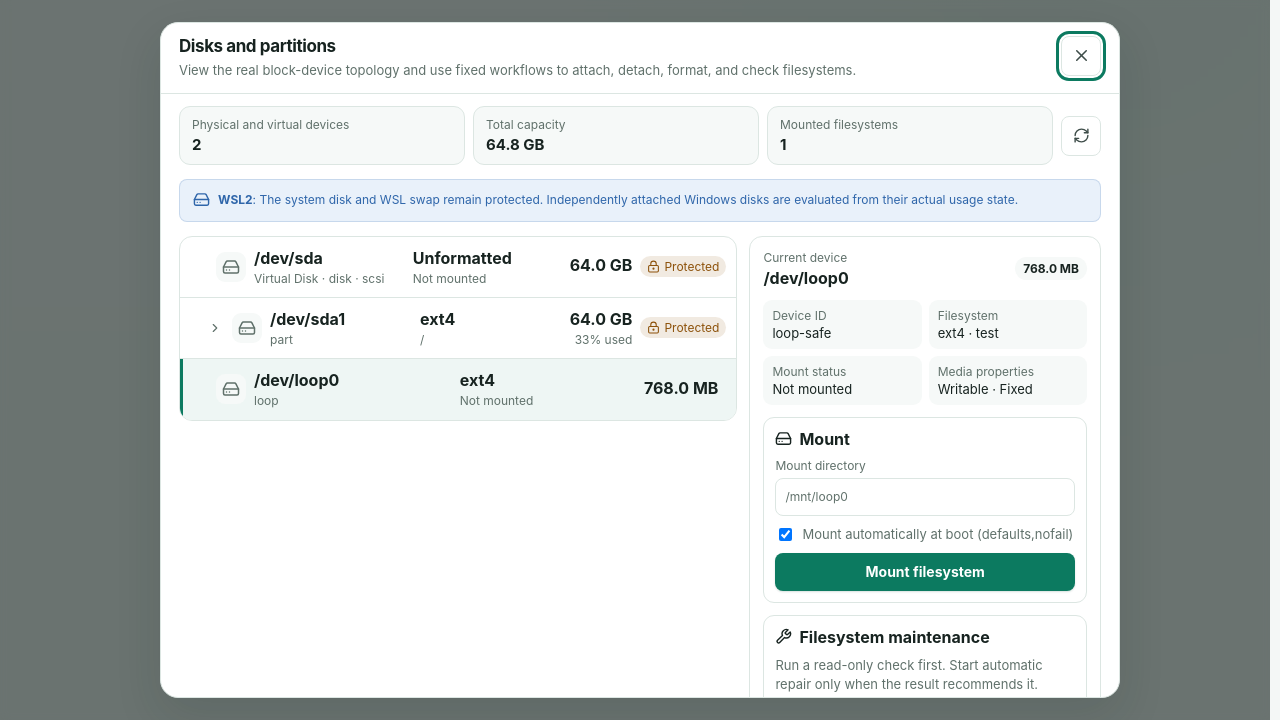
Scenario: DiskPartitionDialog › localizes content rendered through the teleported modal
This screenshot has width=1280, height=720.
Click the button "Mount filesystem". click: (925, 572)
box: [775,553,1075,591]
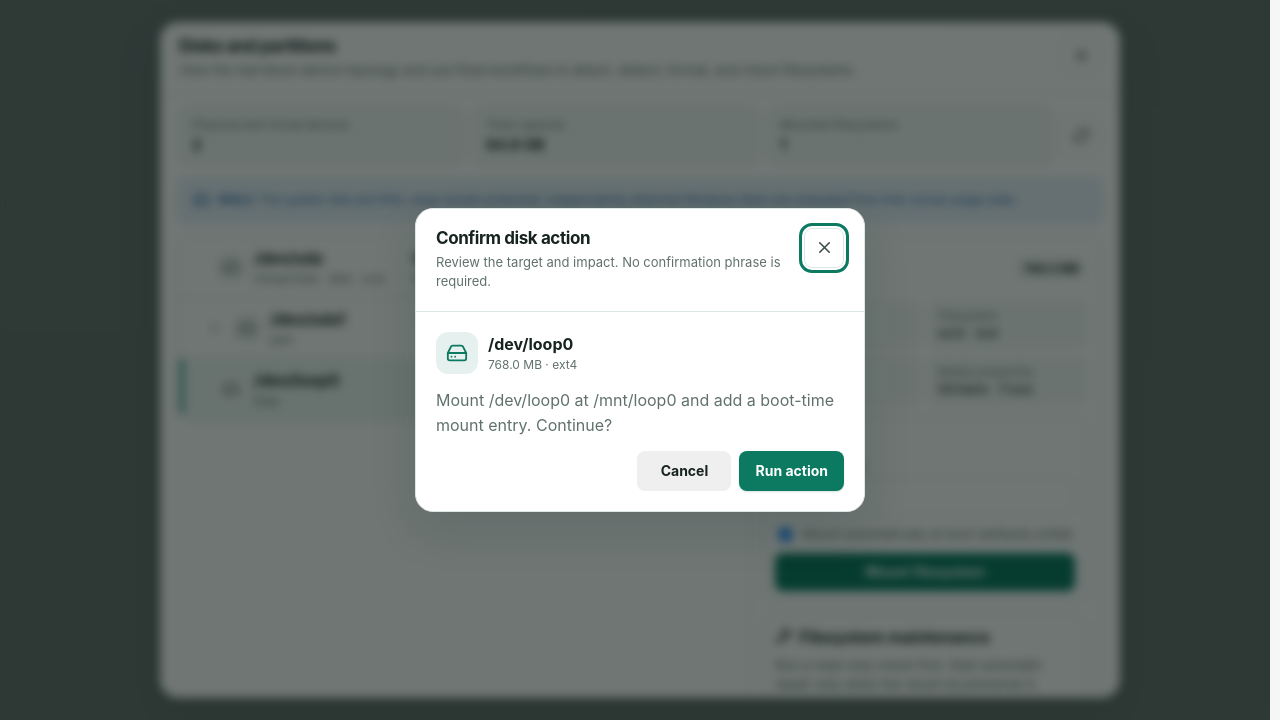
Check: the text "Mount /dev/loop0 at /mnt/loop0 and add a boot-time mount entry. Continue?" is shown, box [436,388,844,437]
